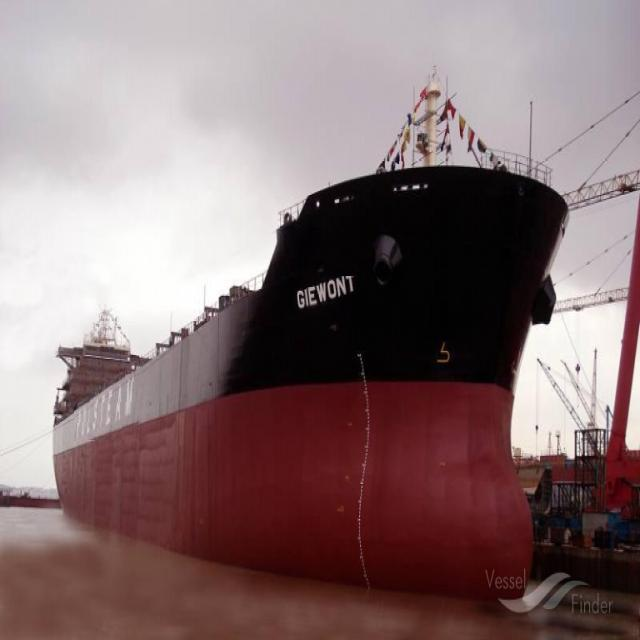OCR: (74, 374, 142, 441), (290, 276, 360, 313)
